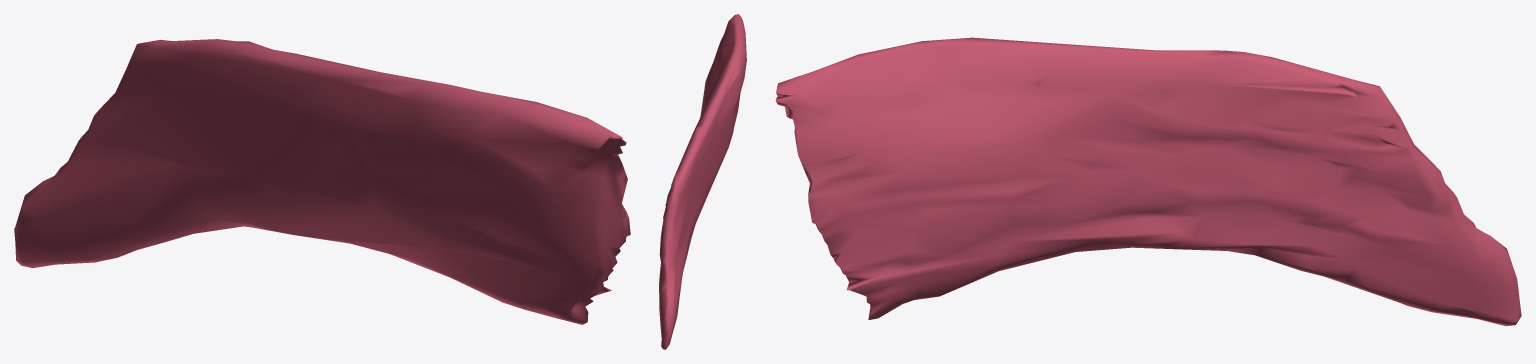
3 renders of one model, left to right at view 1: azimuth 30°, elevation 25°; view 2: azimuth 150°, elevation 25°; view 3: azimuth 270°, elevation 25°, orthographic. The views are drawn at different scales.
Visible parts, largest first — view 1: 左侧咬肌深部; view 2: 左侧咬肌深部; view 3: 左侧咬肌深部.
Boxes of the visible parts, <box> form: 左侧咬肌深部: <box>14,39,630,324</box>; 左侧咬肌深部: <box>659,14,746,349</box>; 左侧咬肌深部: <box>775,37,1521,326</box>.
Bounding box in the file's own units: 0.0398 × 0.051 × 0.0965.
